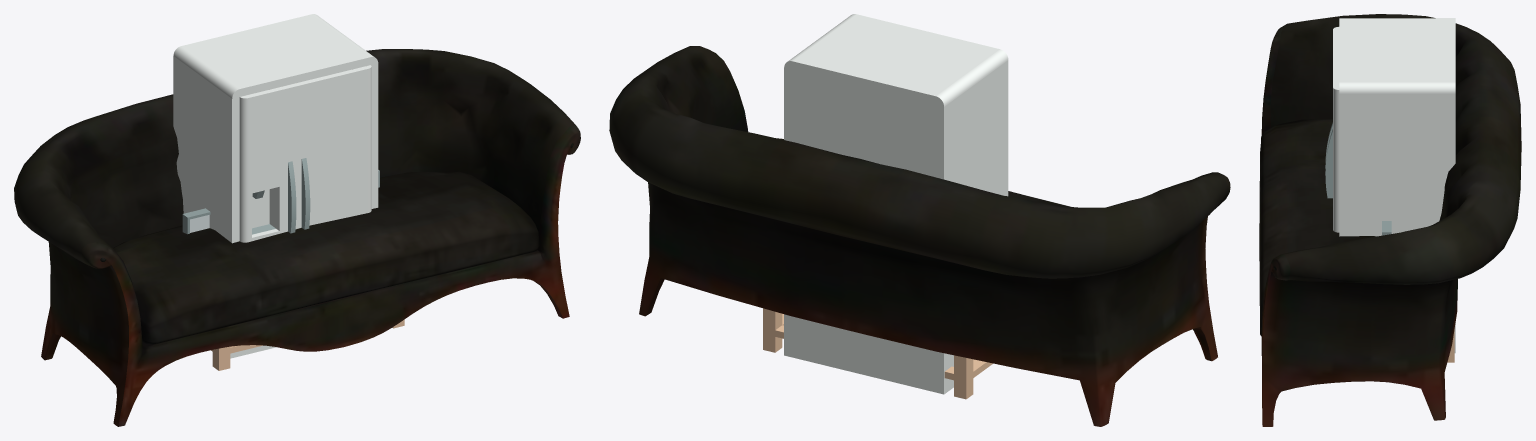
File: ktv.glb
The picture shows the model from 3 angles, left to right: view 1: azimuth 30°, elevation 25°; view 2: azimuth 150°, elevation 25°; view 3: azimuth 270°, elevation 25°; orthographic projection. The views are drawn at different scales.
Visible parts, largest first — view 1: sofa_02_Base, sofa_02_Seat, Mesh kitchenFridgeLarge, doorRight, doorLeft, televisionModern(Clone), tableCoffee(Clone); view 2: sofa_02_Base, Mesh kitchenFridgeLarge, tableCoffee(Clone); view 3: sofa_02_Base, Mesh kitchenFridgeLarge, sofa_02_Seat, doorRight, doorLeft.
Boxes of the visible parts, x1=… form: sofa_02_Base: x1=14, y1=49, x2=580, y2=426; sofa_02_Seat: x1=113, y1=171, x2=539, y2=344; Mesh kitchenFridgeLarge: x1=173, y1=14, x2=378, y2=358; doorRight: x1=294, y1=65, x2=371, y2=229; doorLeft: x1=239, y1=84, x2=297, y2=242; televisionModern(Clone): x1=182, y1=170, x2=379, y2=234; tableCoffee(Clone): x1=211, y1=319, x2=404, y2=370; sofa_02_Base: x1=609, y1=46, x2=1230, y2=426; Mesh kitchenFridgeLarge: x1=784, y1=14, x2=1008, y2=394; tableCoffee(Clone): x1=763, y1=308, x2=992, y2=399; sofa_02_Base: x1=1261, y1=14, x2=1521, y2=426; Mesh kitchenFridgeLarge: x1=1339, y1=18, x2=1455, y2=353; sofa_02_Seat: x1=1259, y1=119, x2=1376, y2=336; doorRight: x1=1325, y1=53, x2=1339, y2=232; doorLeft: x1=1325, y1=27, x2=1339, y2=168.
Bounding box in the file's own units: 1.81 × 0.92 × 0.8178.
Materials: 10 (4 with a texture image).
